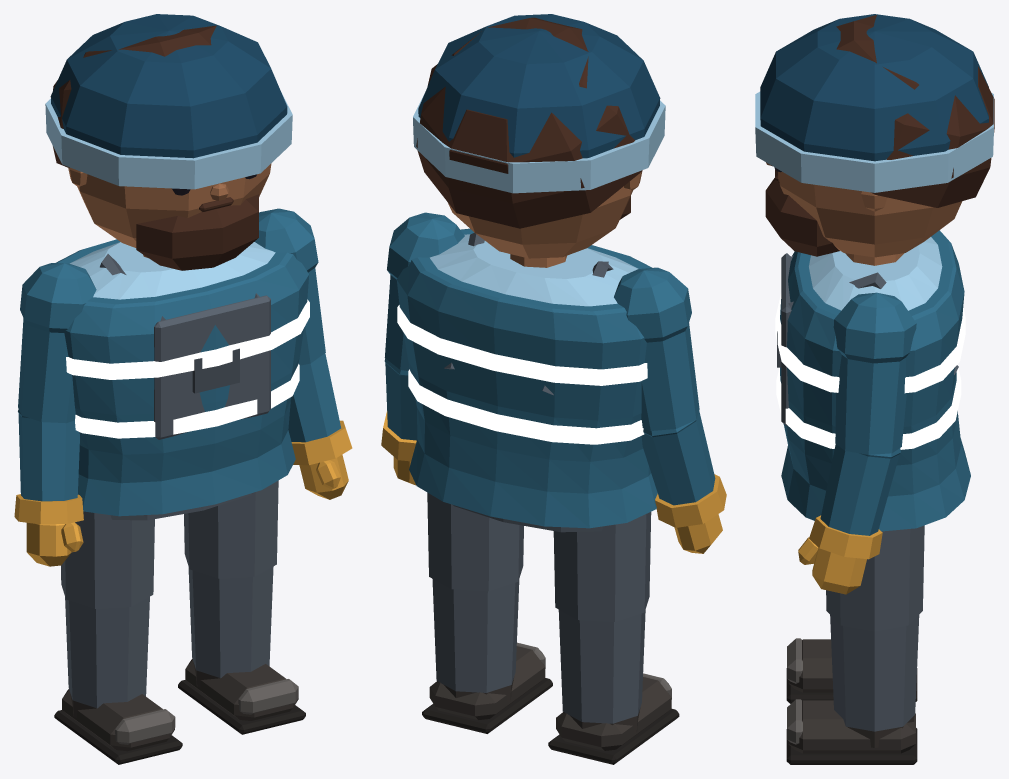
File: fro-k2.glb
3 views of the same model, side by side, from view 1: azimuth 30°, elevation 25°; view 2: azimuth 150°, elevation 25°; view 3: azimuth 270°, elevation 25° (orthographic). The views are drawn at different scales.
Visible parts, largest first — view 1: jacke, kopfbedeckung, bein_r, arm_r, bein_l, latz, arm_l, signalstreifen, bart, kopf, schuh_r, schuh_l (+5 smaller); view 2: jacke, kopfbedeckung, bein_r, bein_l, arm_r, haare, signalstreifen, torso, arm_l, kopf, schuh_l, schuh_r (+1 smaller); view 3: kopfbedeckung, jacke, arm_l, bein_l, kopf, schuh_l, haare, torso, signalstreifen, schuh_r, bart, hand_l (+2 smaller).
Boxes of the visible parts, x1,y1,x2,y2 form: jacke: (56,239,309,516); kopfbedeckung: (45,14,292,189); bein_r: (61,511,154,708); arm_r: (14,263,96,524); bein_l: (184,480,278,678); latz: (100,254,270,439); arm_l: (254,208,352,465); signalstreifen: (66,299,309,438); bart: (136,194,258,270); kopf: (68,163,271,247); schuh_r: (54,689,182,764); schuh_l: (178,659,305,734); jacke: (396,228,657,528); kopfbedeckung: (413,14,665,193); bein_r: (553,512,651,723); bein_l: (427,492,523,692); arm_r: (614,267,726,527); haare: (416,17,641,228); signalstreifen: (397,305,647,444); torso: (430,234,638,306); arm_l: (381,212,464,461); kopf: (448,170,642,258); schuh_l: (422,642,552,733); schuh_r: (548,673,679,764); kopfbedeckung: (755,14,993,192); jacke: (780,230,970,531); arm_l: (809,292,916,559); bein_l: (826,525,924,731); kopf: (778,171,962,257); schuh_l: (786,699,917,764); haare: (836,15,994,207); torso: (809,237,942,310); signalstreifen: (775,293,965,449); schuh_r: (786,638,917,703); bart: (765,169,839,256); hand_l: (798,537,866,594).
Bounding box in the file's own units: 0.0131 × 0.0257 × 0.00811.
